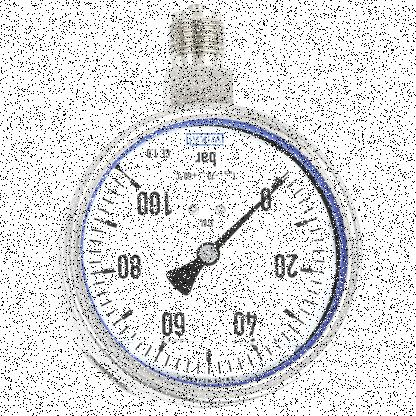needle: (212, 175, 289, 250)
